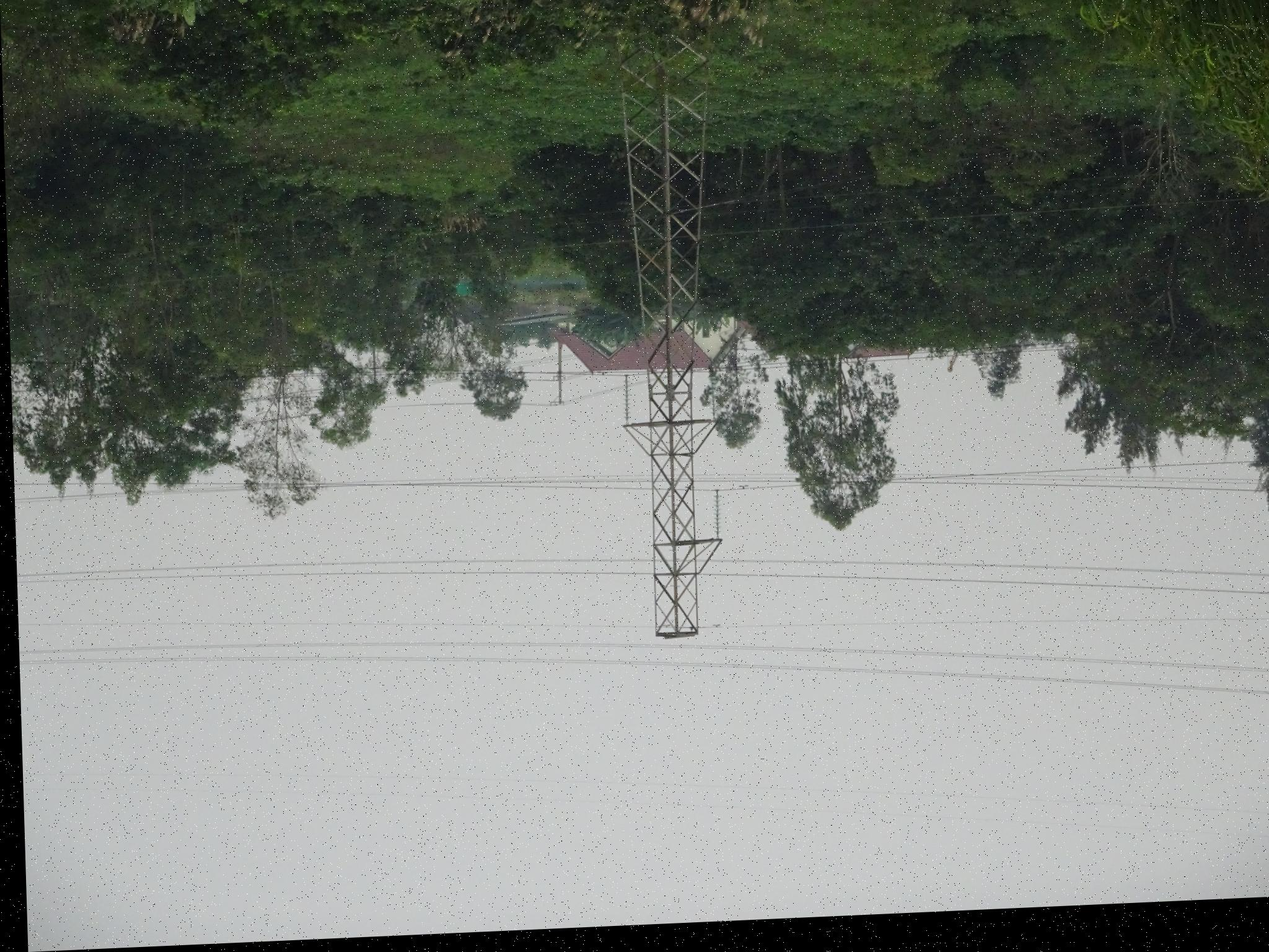tower: (589, 0, 747, 656)
